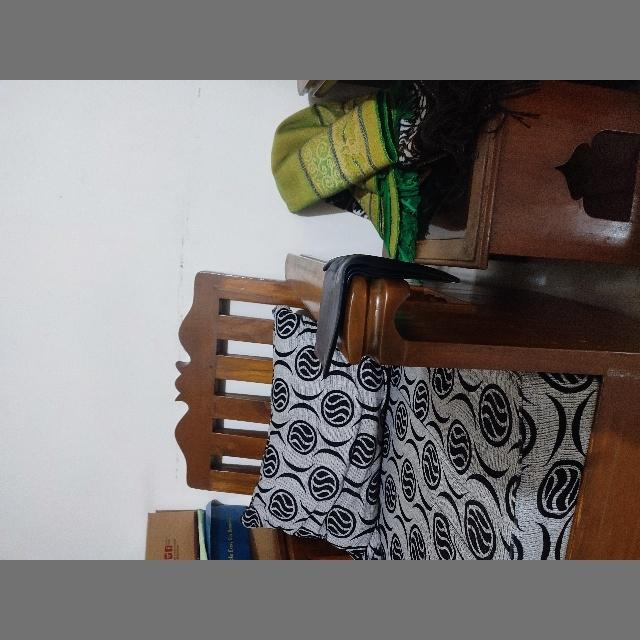Wallet: (314, 254, 461, 378)
